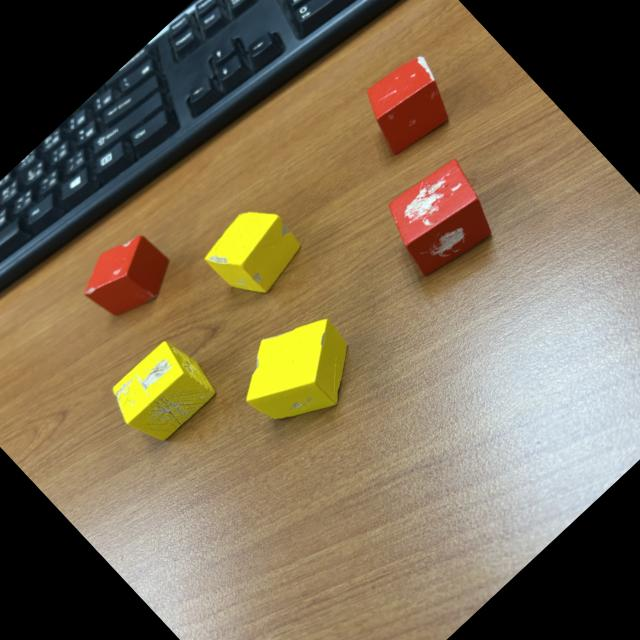broken: (224, 297, 374, 446), (372, 148, 511, 286), (99, 331, 224, 455), (348, 44, 469, 166), (198, 193, 314, 310), (73, 220, 185, 332)
